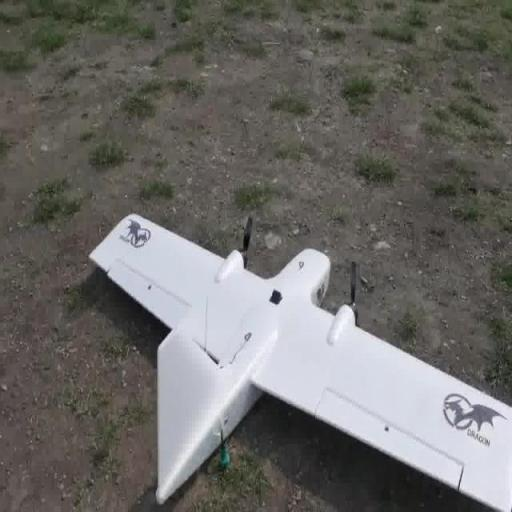uav: (86, 206, 512, 512)
